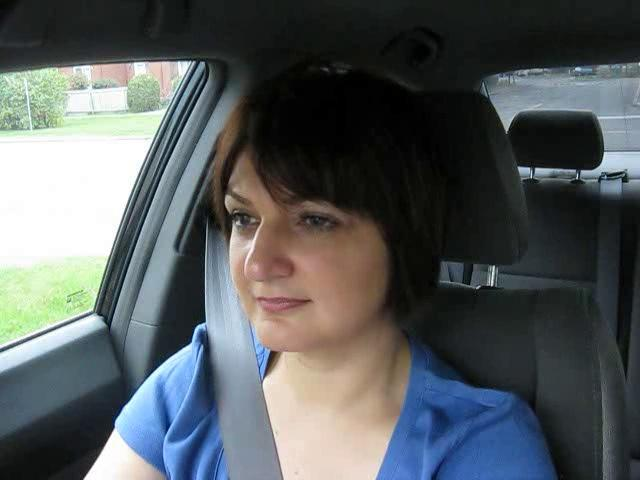no_yawn: (238, 283, 319, 322)
open_eyeL: (218, 204, 265, 235)
open_eyeR: (284, 202, 358, 242)
